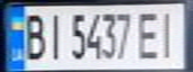3: (100, 9, 121, 61)
4: (84, 9, 103, 61)
5: (66, 9, 87, 61)
7: (115, 9, 136, 61)
B: (18, 9, 48, 62)
E: (136, 8, 163, 61)
I: (154, 7, 184, 60), (42, 9, 66, 61)
